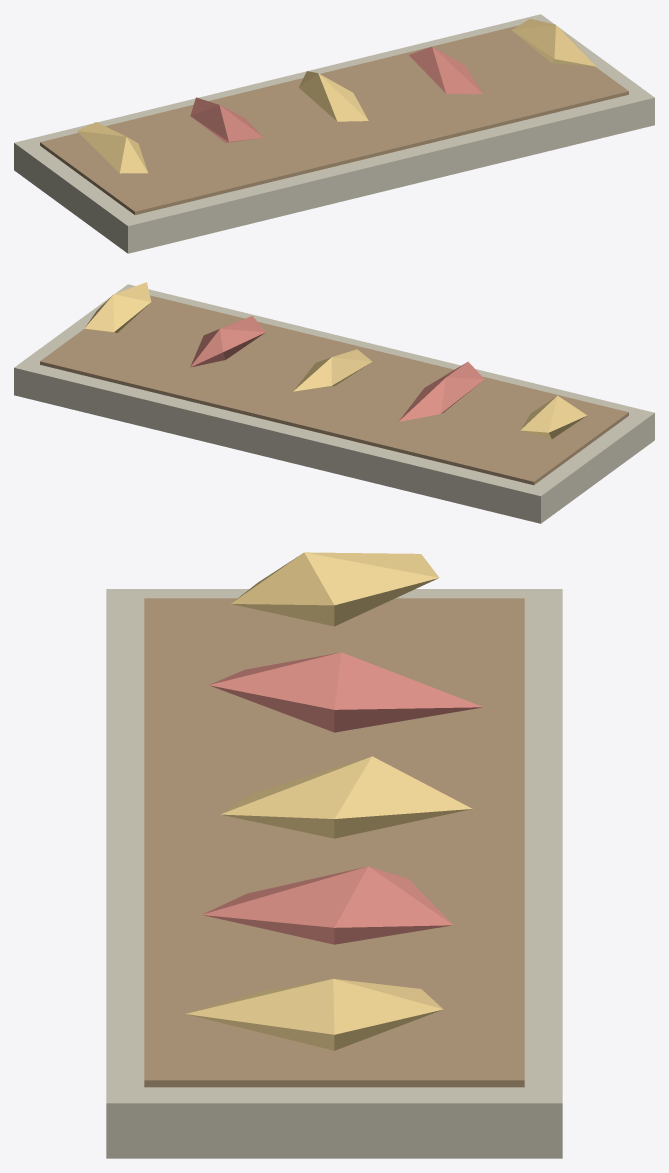
The picture shows the model from 3 angles, top to bottom: view 1: azimuth 30°, elevation 25°; view 2: azimuth 150°, elevation 25°; view 3: azimuth 270°, elevation 25°; orthographic projection. The views are drawn at different scales.
Bounding box in the file's own units: 8 × 1 × 3.
